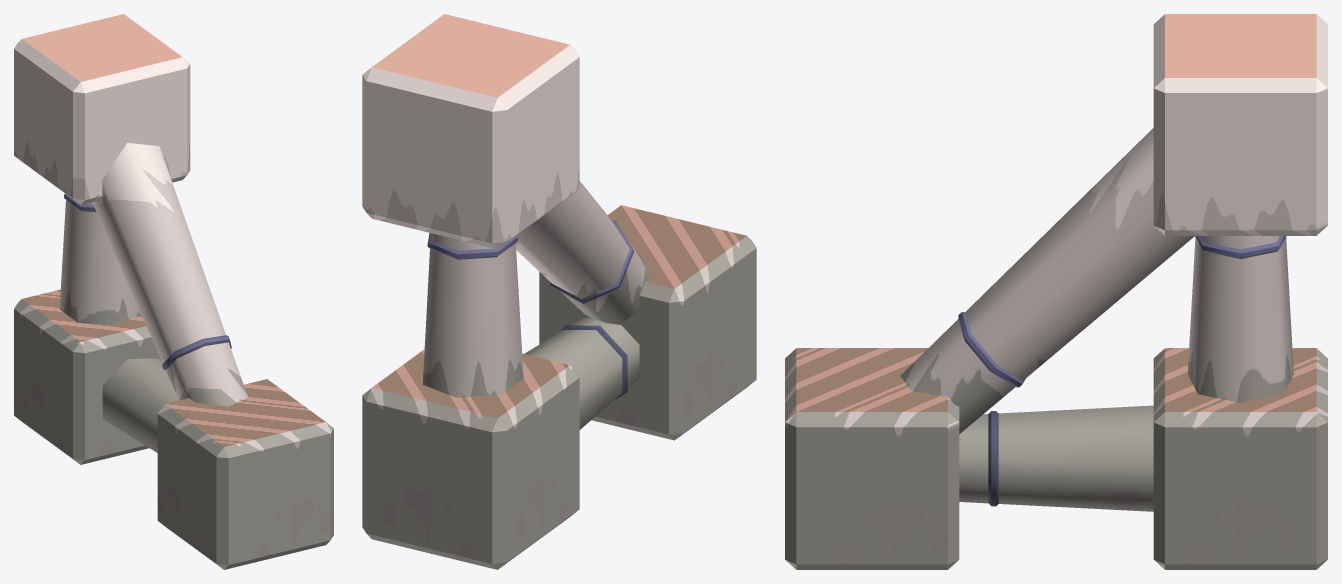
Rendered from R4C_STRUT_RAMP_LOD1.glb.
3 renders of one model, left to right at view 1: azimuth 30°, elevation 25°; view 2: azimuth 150°, elevation 25°; view 3: azimuth 270°, elevation 25°, orthographic. The views are drawn at different scales.
Visible parts, largest first — view 1: R4C_STRUT_RAMP_LOD1; view 2: R4C_STRUT_RAMP_LOD1; view 3: R4C_STRUT_RAMP_LOD1.
Part boxes in pixels (bbox=[...]): R4C_STRUT_RAMP_LOD1: bbox=[14, 14, 333, 569]; R4C_STRUT_RAMP_LOD1: bbox=[362, 14, 756, 569]; R4C_STRUT_RAMP_LOD1: bbox=[785, 14, 1327, 569].
Bounding box in the file's own units: 0.52 × 1.62 × 1.62.
3 materials, 3 textured.
